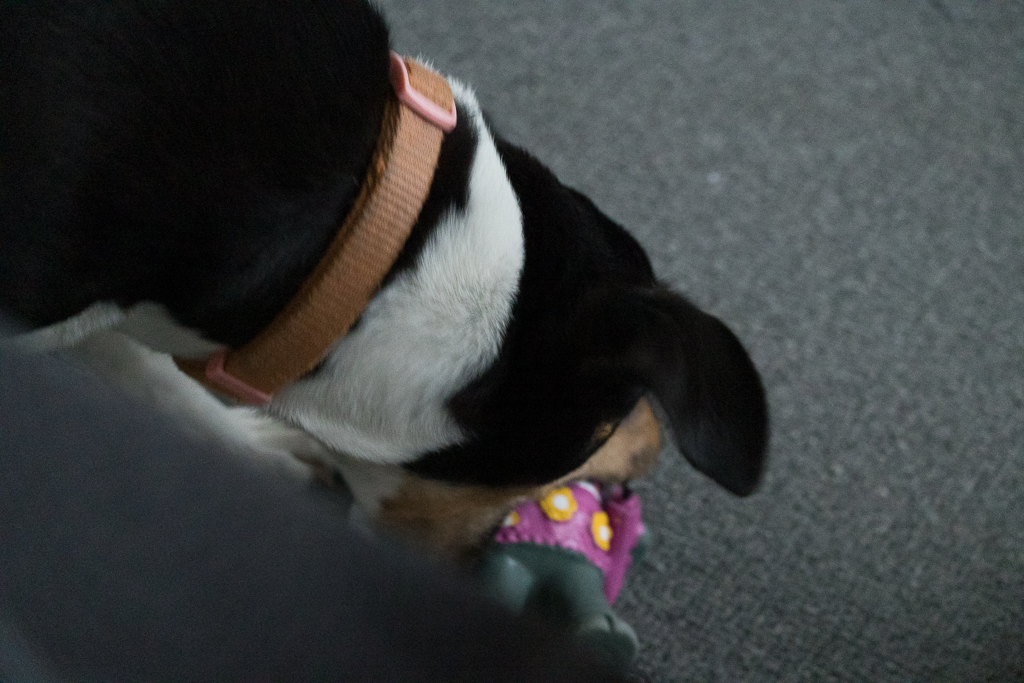Dog: (1, 2, 783, 683)
Humanoid: (462, 453, 669, 683)
